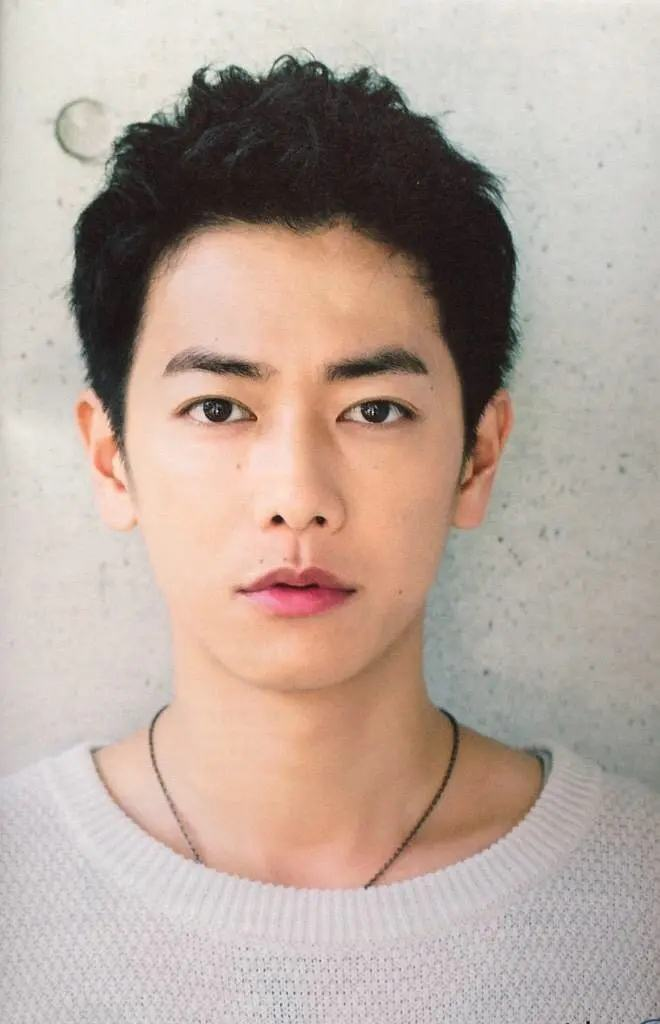person: (58, 63, 565, 1007)
